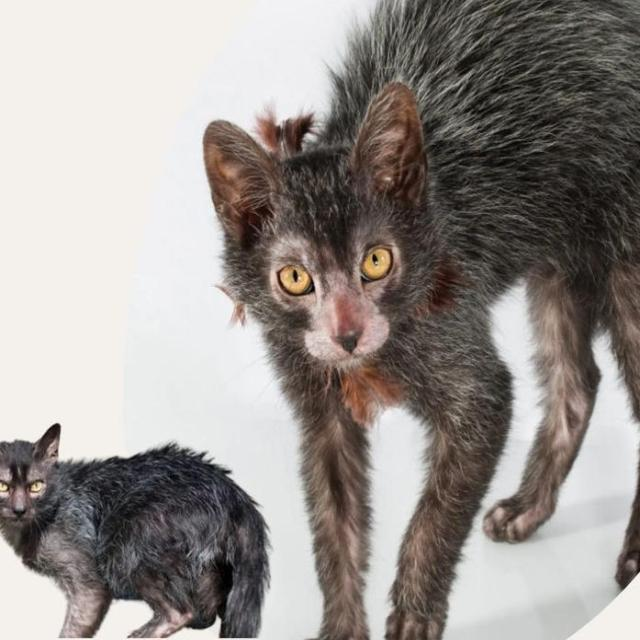Lykoi: (195, 0, 640, 640), (0, 414, 271, 640)
